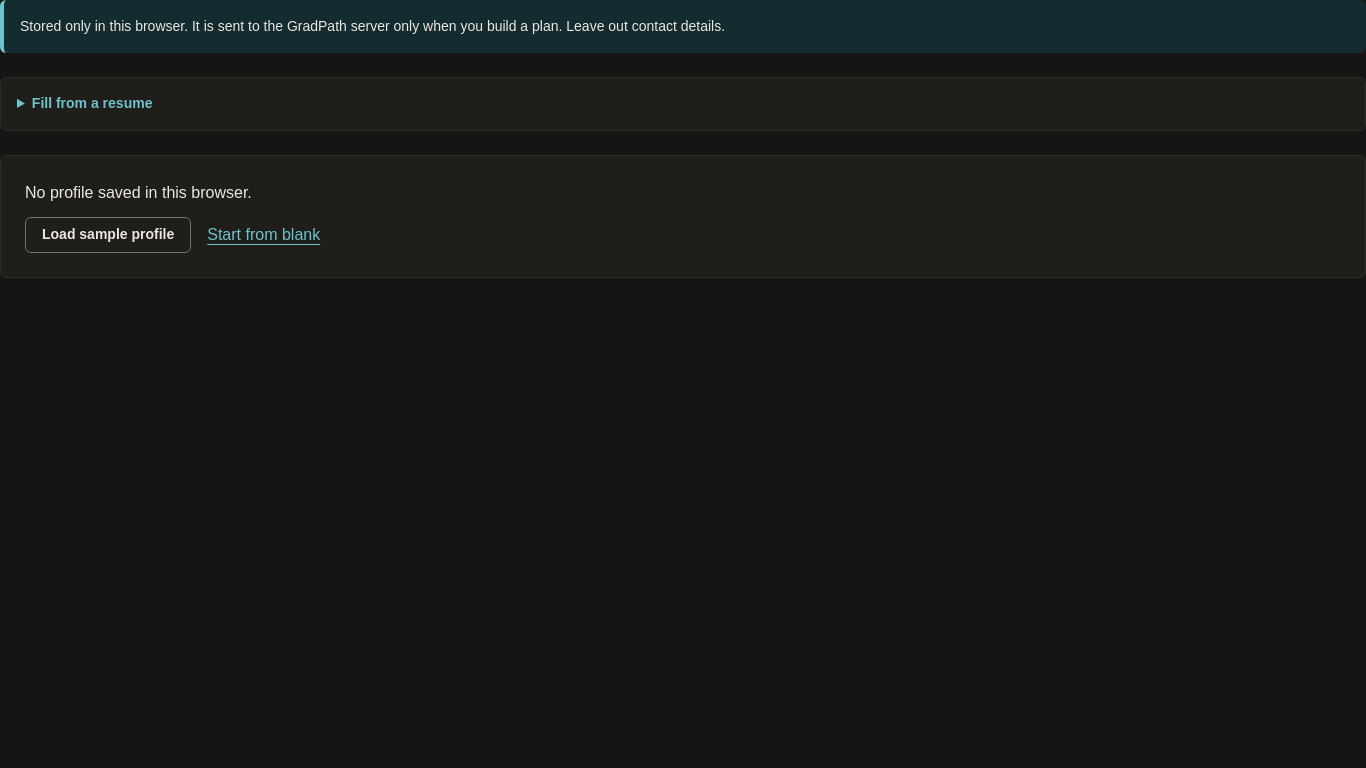
Scenario: empty state › the sample fills the fields with a badge that goes away on edit
This screenshot has width=1366, height=768.
Expected: the text "Stored only in this browser" is shown, [20,18,725,34]
Expected: the text "No profile saved in this browser." is shown, [25,184,252,201]
Click the button "Load sample profile" at (108, 235), box [25,217,191,253]
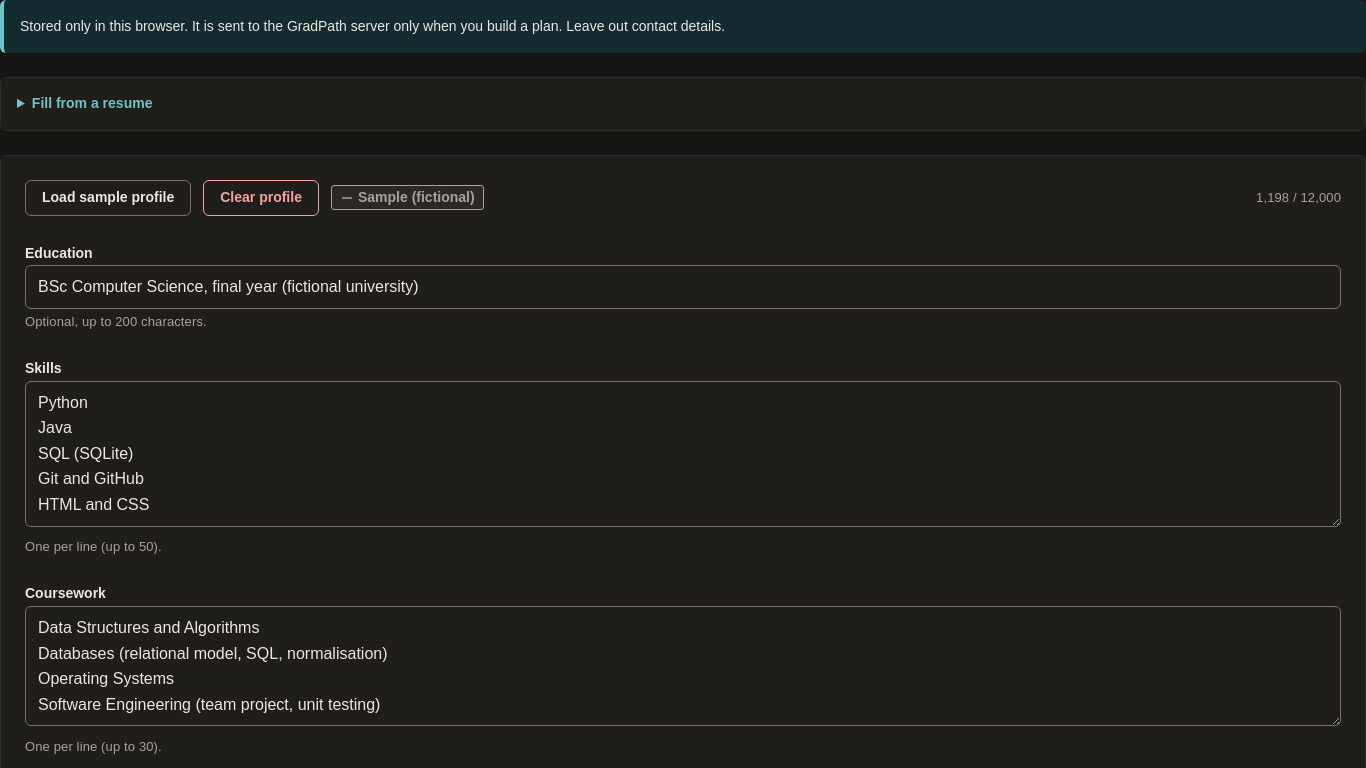
Expected: the field labelled "Education" holds "BSc Computer Science, final year (fictional university)"
Expected: the text "Sample (fictional)" is shown, [331,185,484,210]
Replace the text in the field labelled "Education" with "Changed" at (683, 287), box [25,265,1341,309]
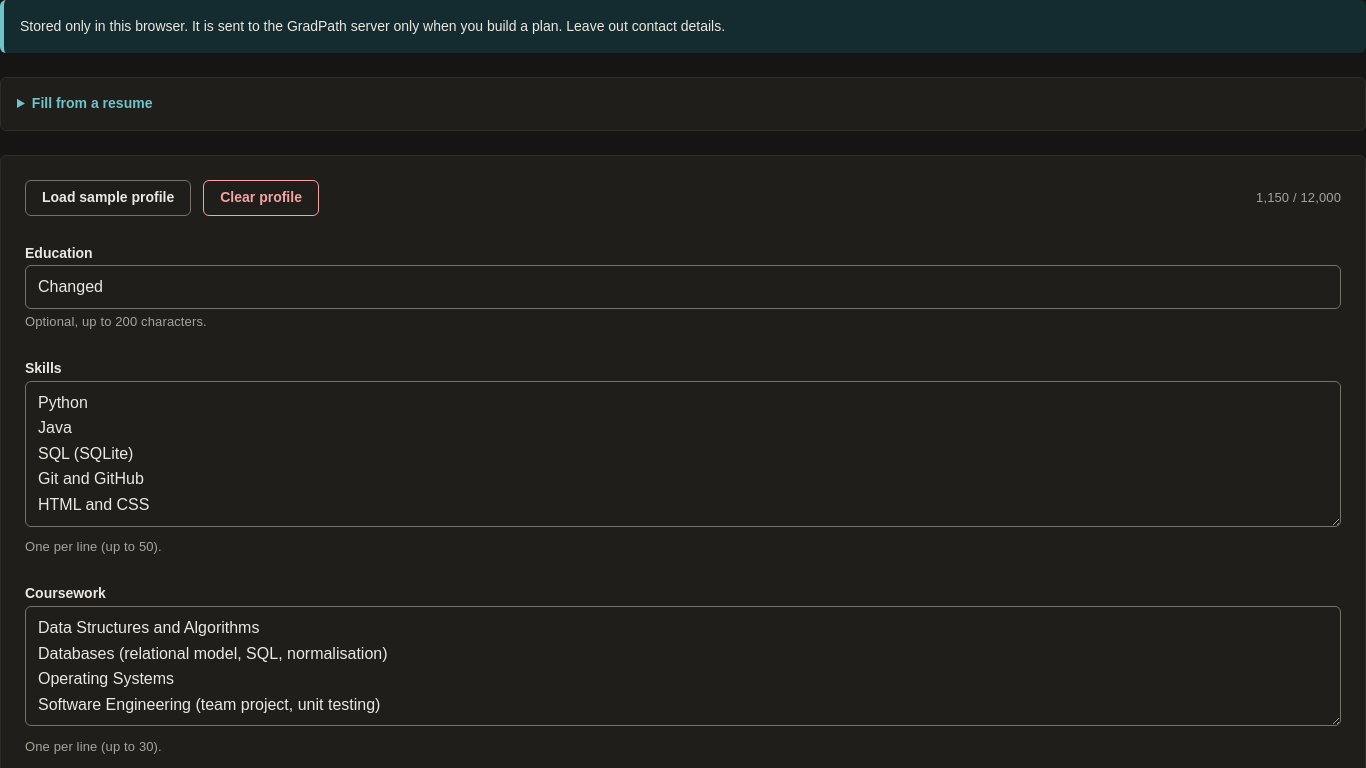
Expected: the text "Sample (fictional)" is gone
